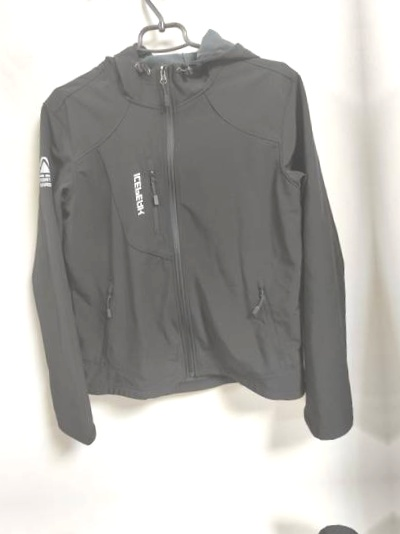Hoodie: (11, 20, 366, 462), (382, 0, 400, 437), (45, 521, 400, 534)
